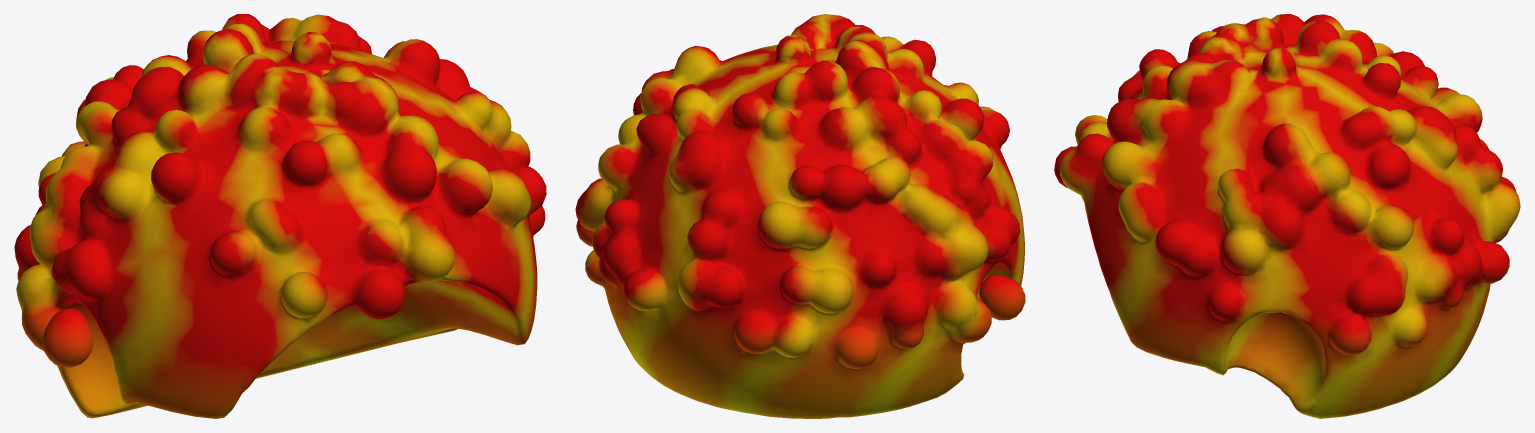
File: curly-short.glb
3 renders of one model, left to right at view 1: azimuth 30°, elevation 25°; view 2: azimuth 150°, elevation 25°; view 3: azimuth 270°, elevation 25°, orthographic. The views are drawn at different scales.
Visible parts, largest first — view 1: part; view 2: part; view 3: part.
Part boxes in pixels (<box>): part: <box>14,14,546,418</box>; part: <box>575,14,1025,418</box>; part: <box>1054,14,1520,418</box>.
Size of the model in its own units: 2.48 by 1.78 by 2.43.
